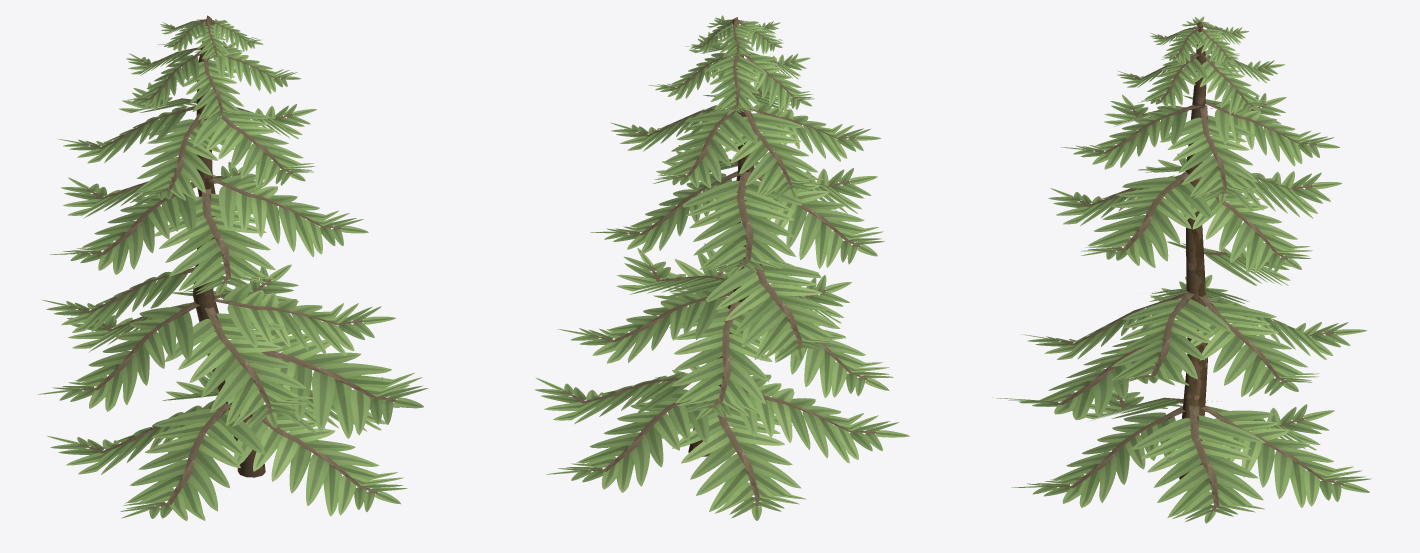
File: pine_3.glb
3 renders of one model, left to right at view 1: azimuth 30°, elevation 25°; view 2: azimuth 150°, elevation 25°; view 3: azimuth 270°, elevation 25°, orthographic. The views are drawn at different scales.
Parts seen in each view (by area): view 1: Pine_3; view 2: Pine_3; view 3: Pine_3.
Boxes of the visible parts, box(x1,y1,x2,y2) form: Pine_3: box(38, 15, 428, 521); Pine_3: box(534, 15, 909, 520); Pine_3: box(992, 16, 1371, 523).
Bounding box in the file's own units: 6.88 × 8.1 × 7.29.
2 materials, 2 textured.
